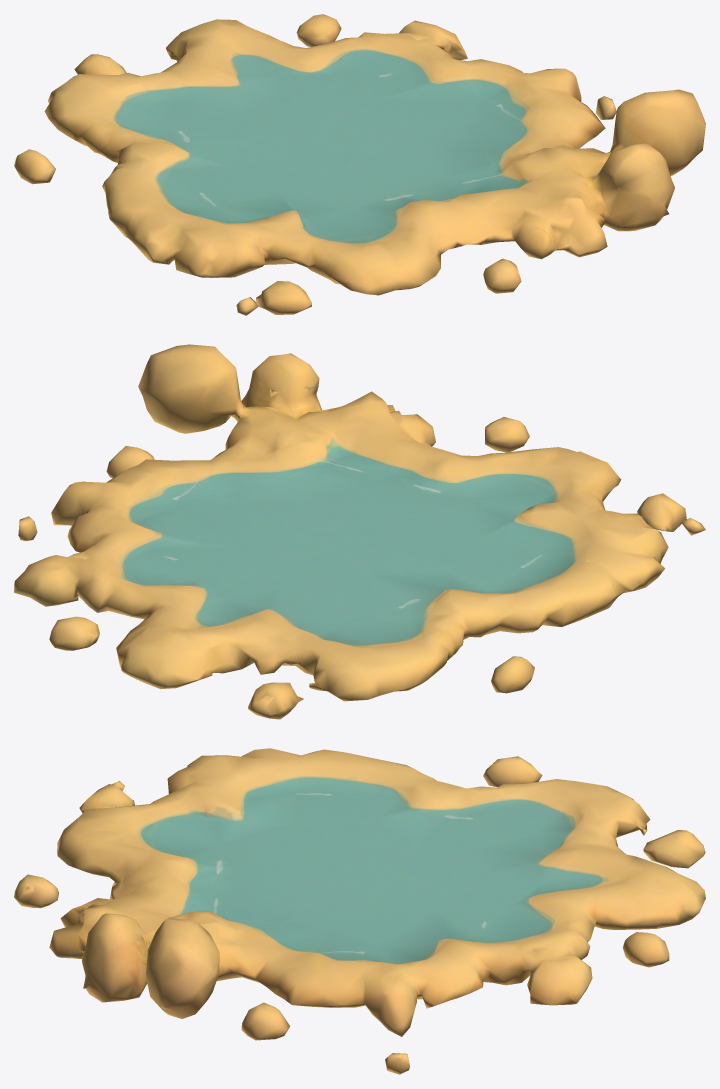
File: sapone.fbx
3 renders of one model, top to bottom at view 1: azimuth 30°, elevation 25°; view 2: azimuth 150°, elevation 25°; view 3: azimuth 270°, elevation 25°, orthographic. The views are drawn at different scales.
Parts seen in each view (by area): view 1: Mesh_0.048; view 2: Mesh_0.048; view 3: Mesh_0.048.
Boxes of the visible parts, x1,y1,x2,y2 form: Mesh_0.048: [14, 14, 705, 315]; Mesh_0.048: [14, 344, 705, 719]; Mesh_0.048: [14, 748, 705, 1074].
Size of the model in its own units: 185 by 38.96 by 200.
1 material, 1 textured.
